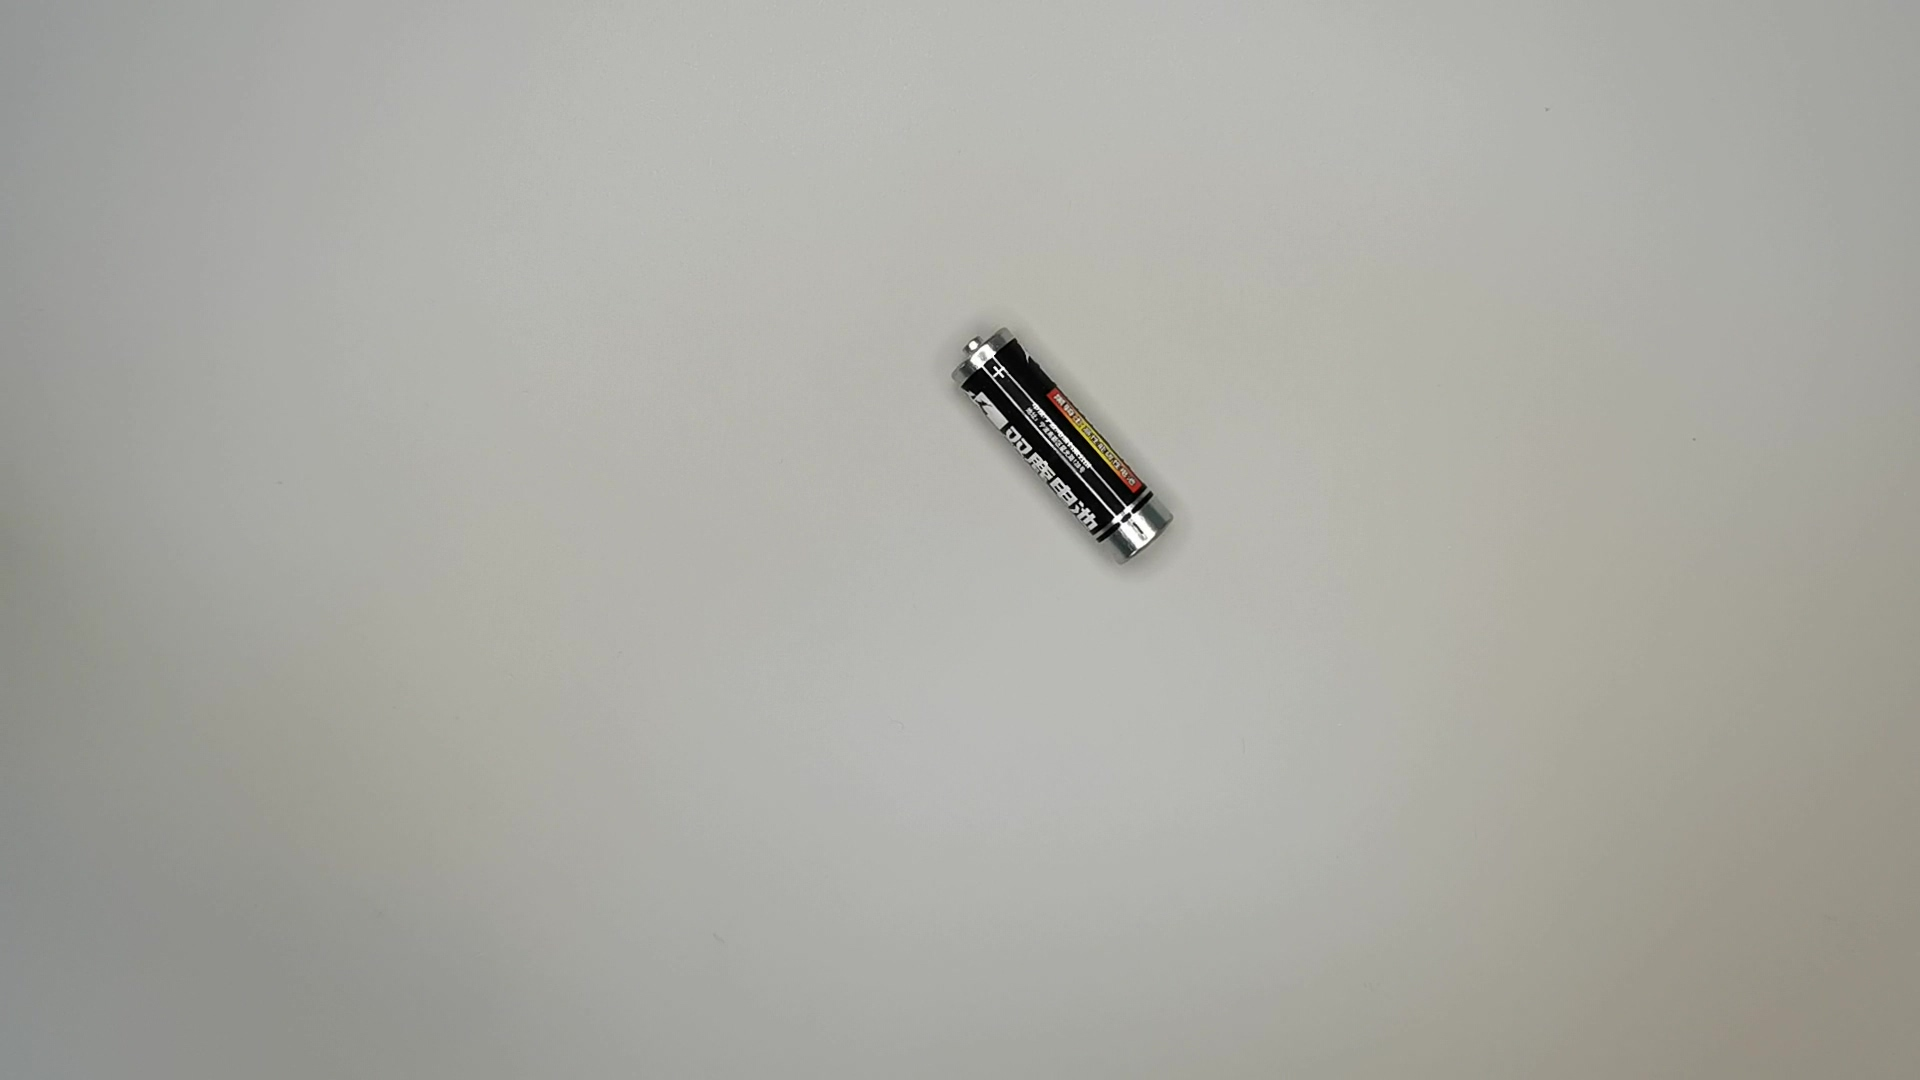battery: (951, 323, 1180, 567)
